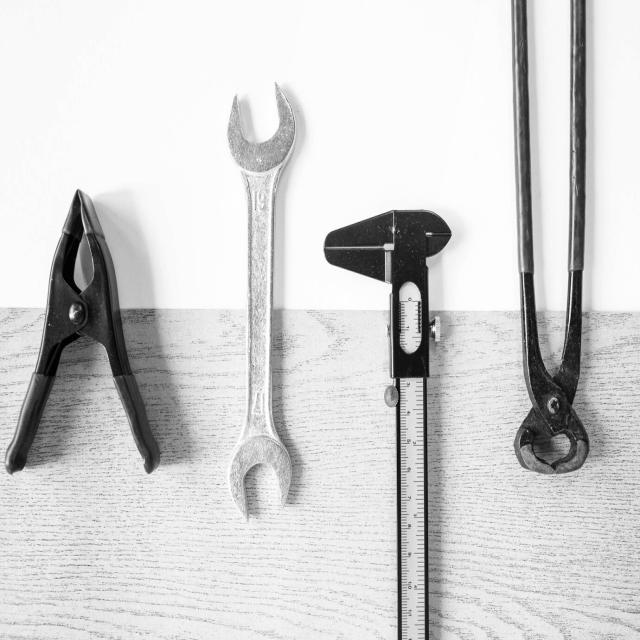c_clamp: (0, 133, 180, 552)
pliers: (491, 0, 626, 503)
vernier_caliper: (325, 187, 472, 639)
wrench: (214, 58, 343, 539)
